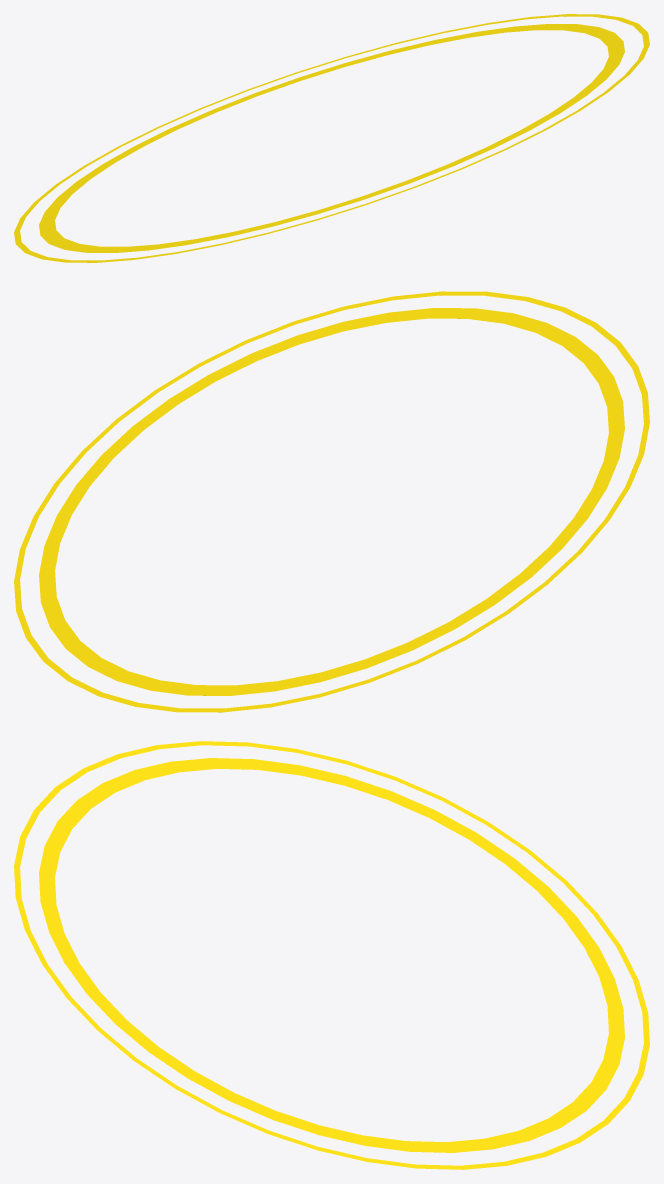
File: MoonTower_Action_Ringu.glb
3 views of the same model, one above another, from view 1: azimuth 90°, elevation 25°; view 2: azimuth 150°, elevation 25°; view 3: azimuth 270°, elevation 25° (orthographic).
Visible parts, largest first — view 1: MoonTower_Action_Ringu; view 2: MoonTower_Action_Ringu; view 3: MoonTower_Action_Ringu.
Boxes of the visible parts, x1,y1,x2,y2 form: MoonTower_Action_Ringu: (14,14,649,262); MoonTower_Action_Ringu: (14,291,649,712); MoonTower_Action_Ringu: (14,741,649,1169).
Bounding box in the file's own units: 27.89 × 10.1 × 27.08.
1 material, 1 textured.
